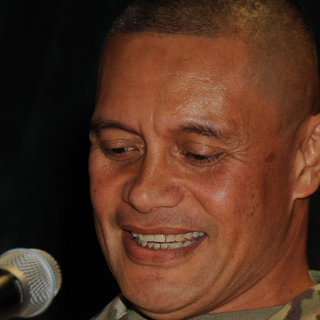eye: (169, 138, 229, 172), (95, 134, 145, 164)
